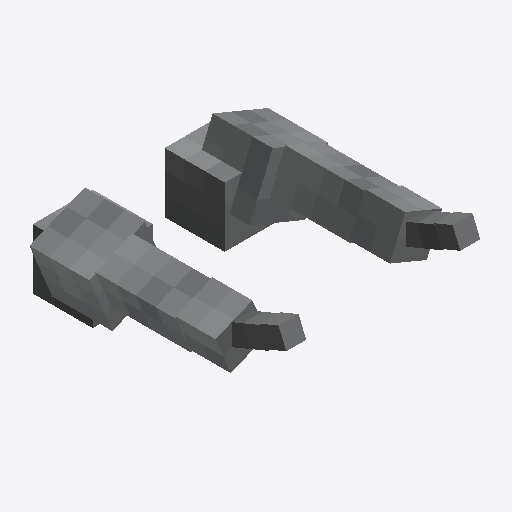
A Minecraft block model of 12 cuboids, rendered isometrically (azimuth 45°, elevation 35.3°) with the resource pack's own textures.
Visible parts, largest first — element 2, element 8, element 7, element 3, element 9, element 10, element 4, element 1, element 11, element 5, element 6, element 12.
Part boxes in pixels (x1,y1,x2,y2): element 2: (30,188,155,330); element 8: (202,108,327,224); element 7: (165,122,273,251); element 3: (95,233,210,351); element 9: (270,142,397,242); element 10: (350,185,441,263); element 4: (176,277,256,372); element 1: (33,190,152,327); element 11: (434,212,479,250); element 5: (260,312,305,350); element 6: (232,311,277,350); element 12: (406,210,450,249).
Bounding box in the file's own units: 11.93 × 4.81 × 12.72.